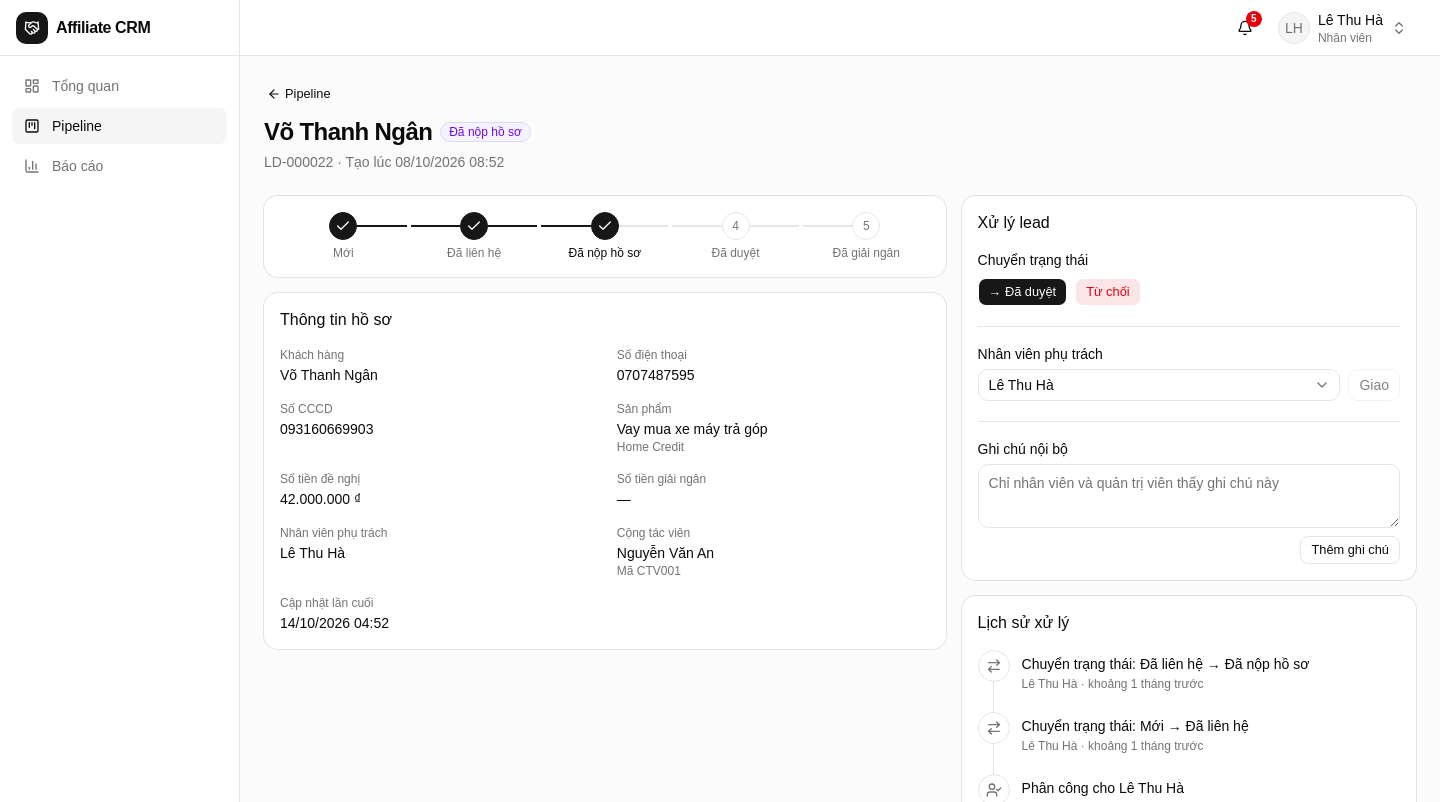
Test: Lead actions (staff) › adds an internal note to the timeline
The width and height of the screenshot is (1440, 802).
Expected: the heading "Xử lý lead" is shown, [978,214,1050,231]
Click the button "Thêm ghi chú" at coordinates (1350, 550), box [1300,536,1400,564]
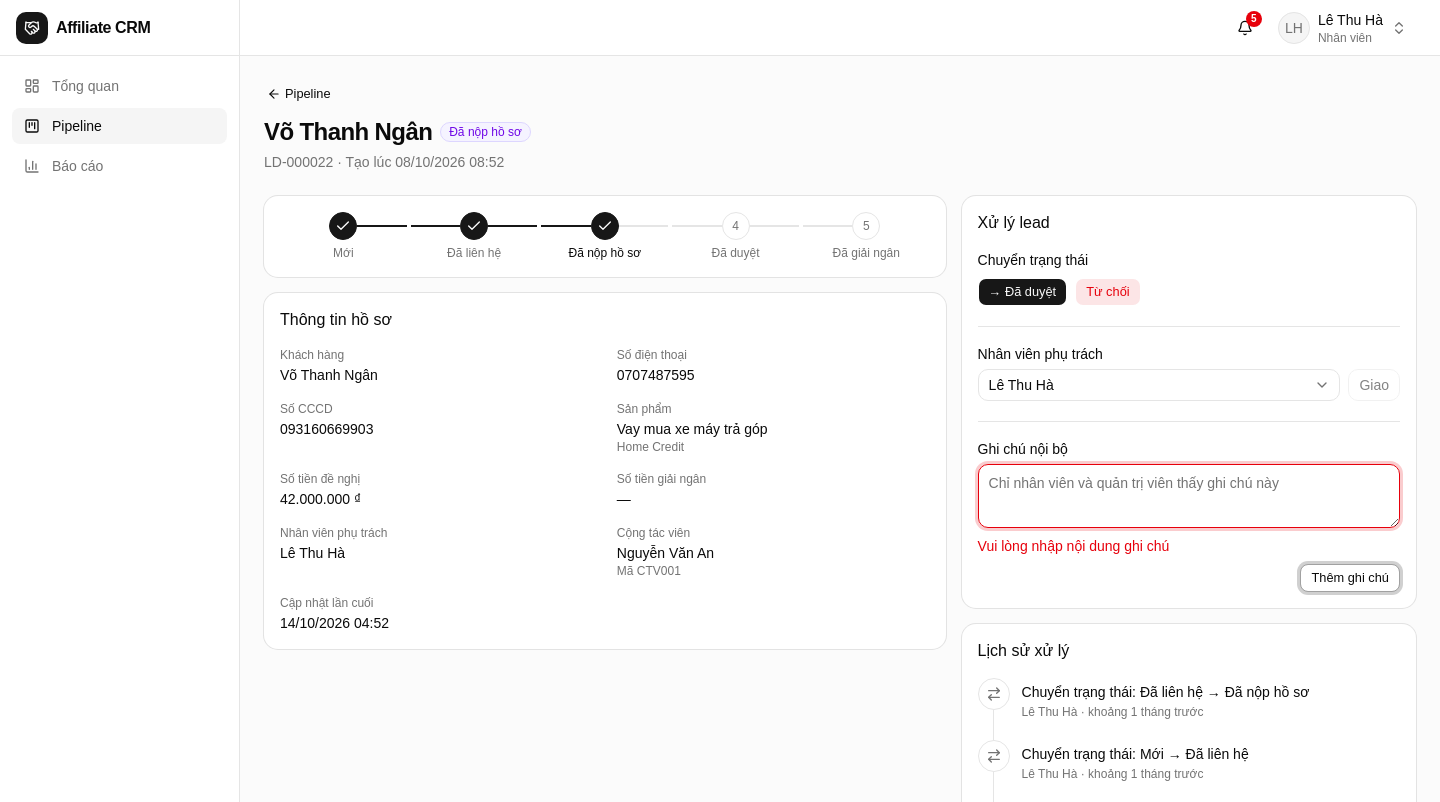
Expected: the text "Vui lòng nhập nội dung ghi chú" is shown, [978,538,1169,554]
Type "Chờ đối tác thẩm định" into the text box labelled "Ghi chú nội bộ" at coordinates (1189, 496), box [978,464,1400,528]
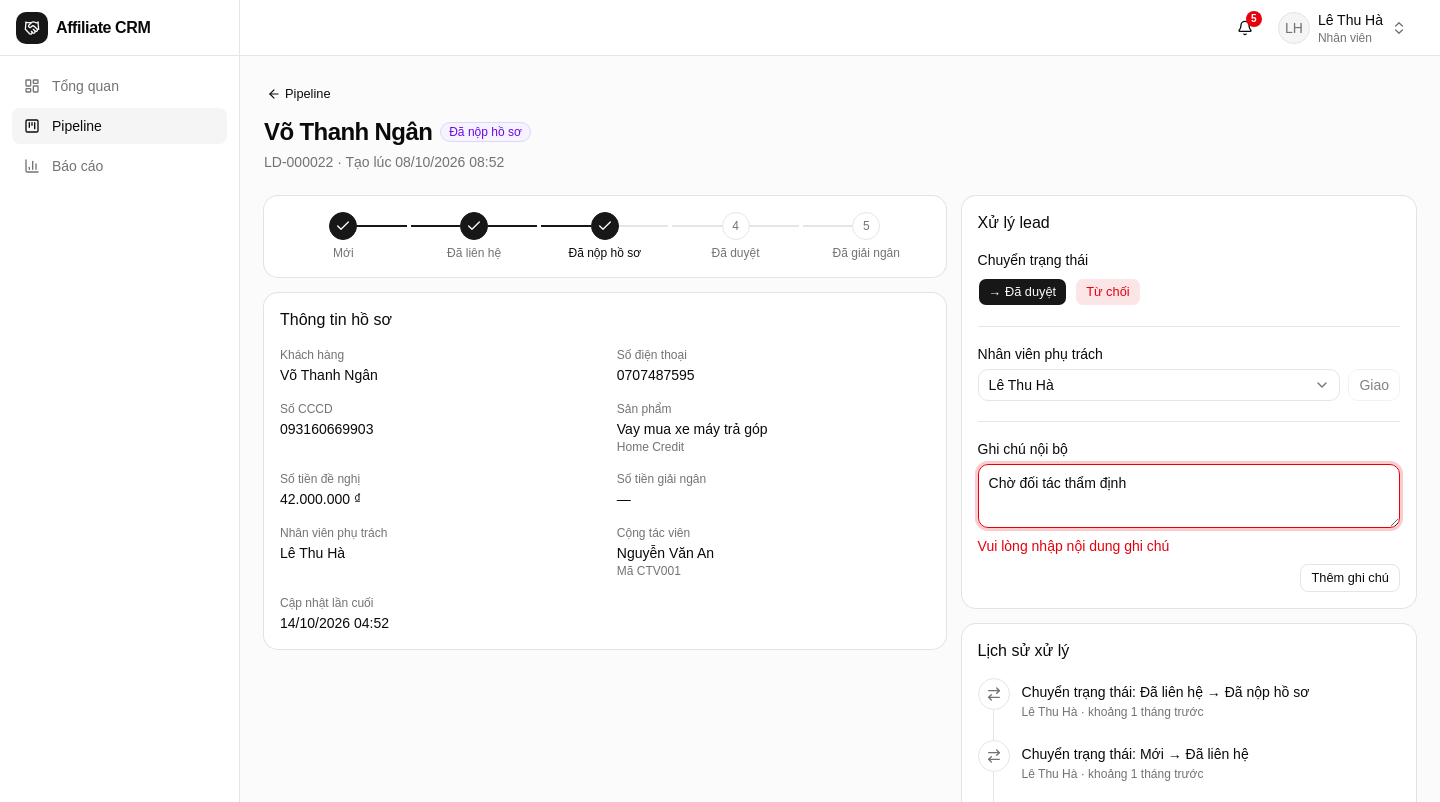
Click the button "Thêm ghi chú" at coordinates (1350, 578), box [1300,564,1400,592]
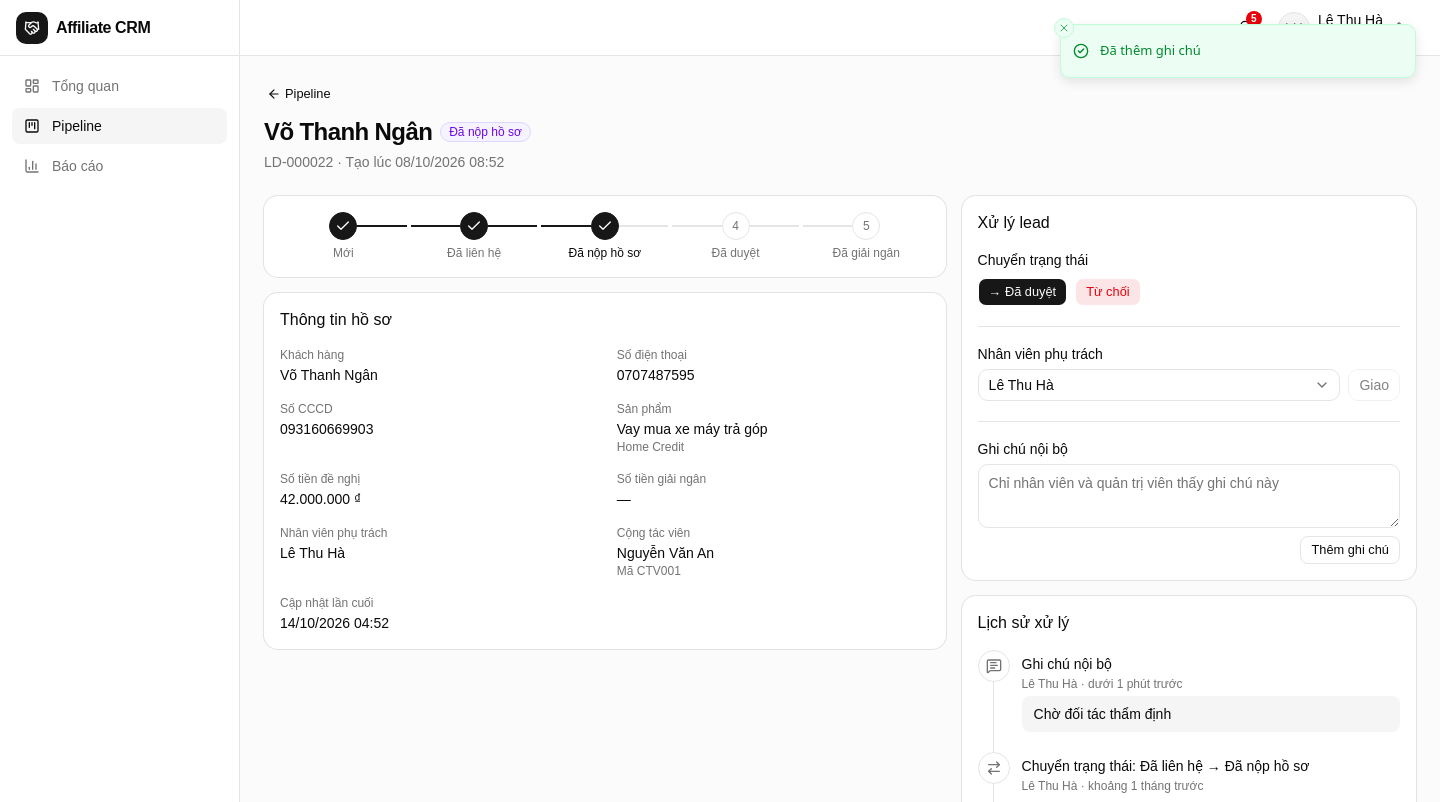
Expected: the text "Chờ đối tác thẩm định" is shown, [1022,696,1400,732]
Expected: the text box labelled "Ghi chú nội bộ" is empty, [978,464,1400,528]
